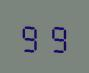nine: (44, 19, 68, 53), (19, 19, 43, 52)
